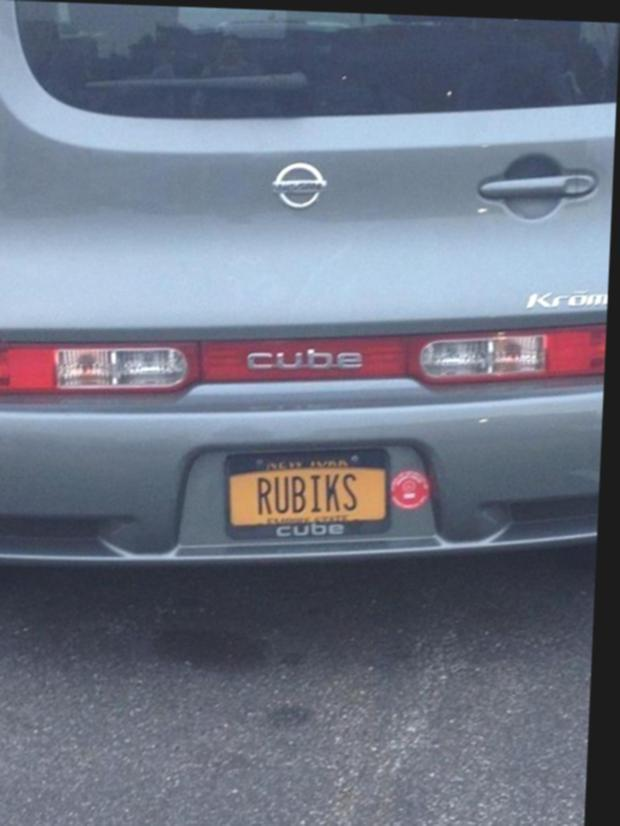License_Plate: (203, 436, 411, 553)
